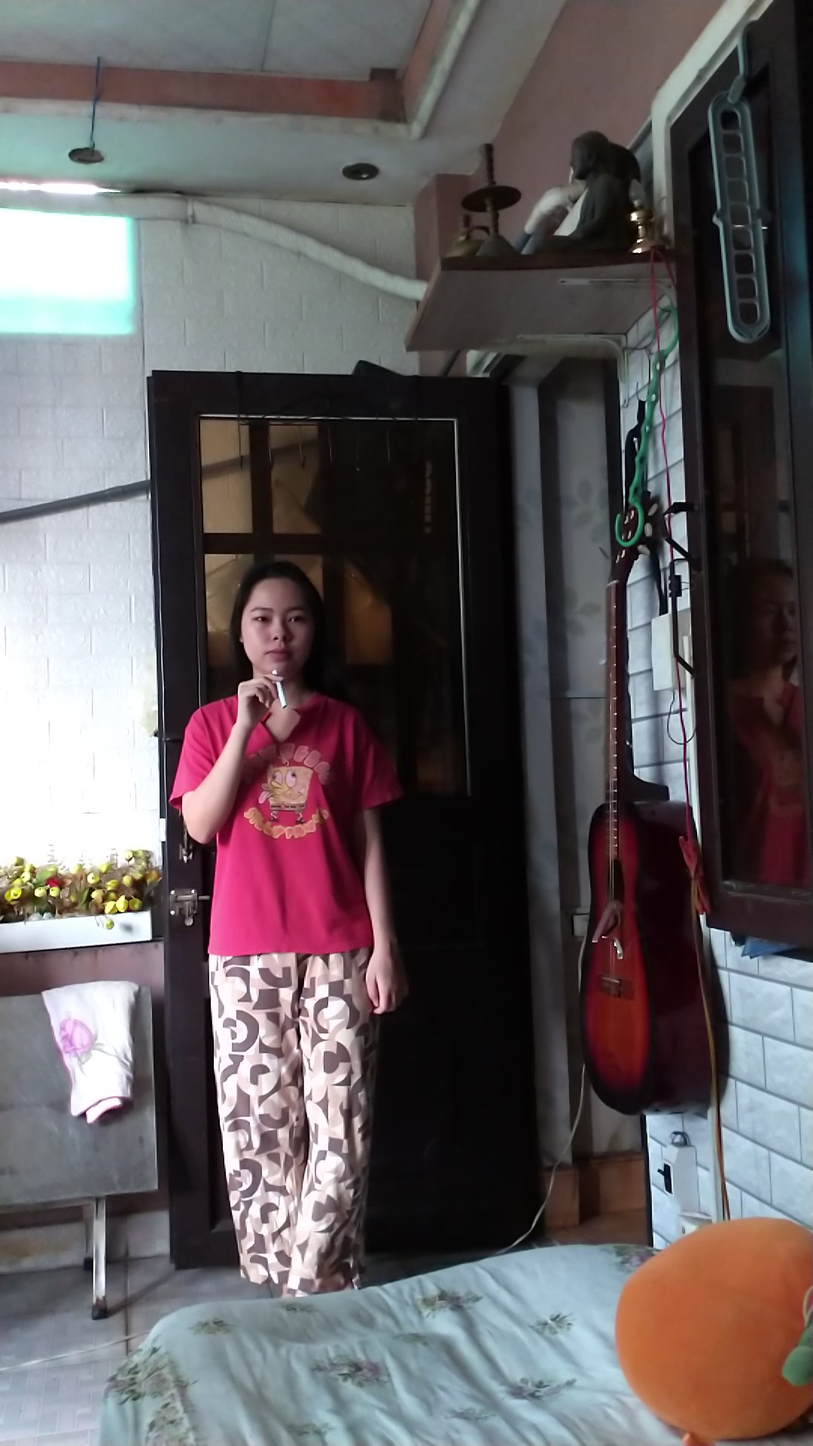cigarette: (273, 679, 291, 713)
person: (172, 527, 407, 1315)
